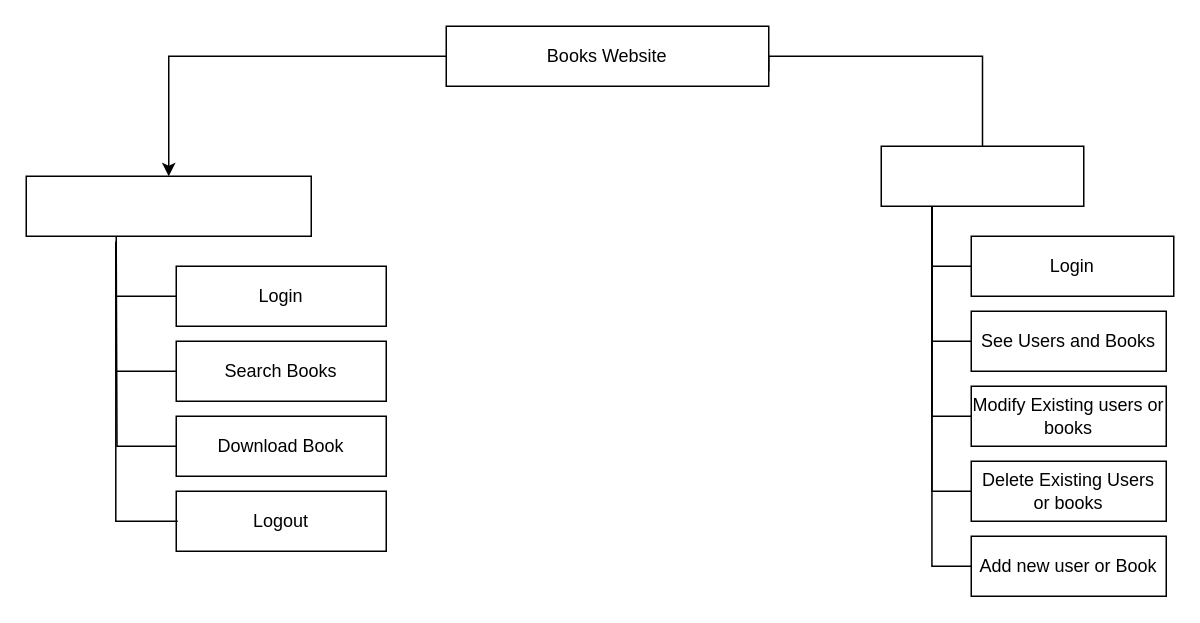
Image size: 1200x623. Some labels were removed from this diagram. Each missing label, with the centre of its shape:
Admin: [982,175]
User: [168,205]
